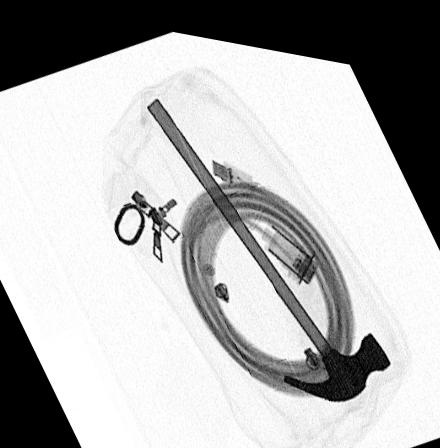Hammer: (147, 91, 391, 389)
